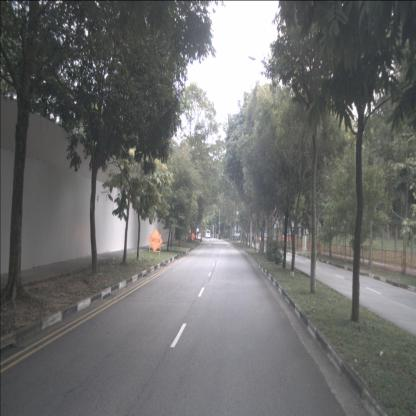vehicle-car: (205, 230, 211, 238)
